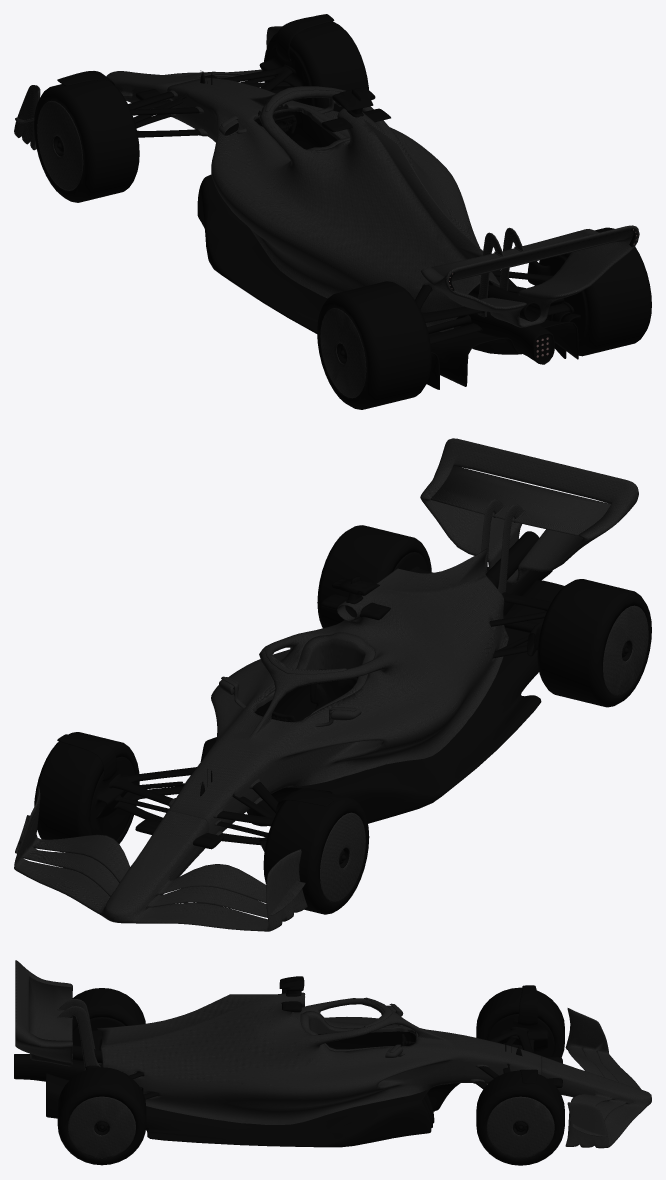
The model's file is mercedes_w13_mobile.glb.
3 views of the same model, one above another, from view 1: azimuth 30°, elevation 25°; view 2: azimuth 150°, elevation 25°; view 3: azimuth 270°, elevation 25° (orthographic). The views are drawn at different scales.
Visible parts, largest first — view 1: WingMirrorHousing_low_Body_Main_0, FrontTyre_Tyre_0, FrontWheelHubInner_Carbon Fiber_0, FronyWheelHub_Body_Wings_0, FronyWheelHub_Titanium_0, T-Cam.004_Glass_0; view 2: WingMirrorHousing_low_Body_Main_0, FronyWheelHub_Body_Wings_0, FrontWheelHubInner_Carbon Fiber_0, FrontTyre_Tyre_0, FronyWheelHub_Titanium_0; view 3: WingMirrorHousing_low_Body_Main_0, FronyWheelHub_Body_Wings_0, FrontWheelHubInner_Carbon Fiber_0, FrontTyre_Tyre_0, FronyWheelHub_Titanium_0.
Boxes of the visible parts, box(x1,y1,x2,y2) form: WingMirrorHousing_low_Body_Main_0: box(166, 77, 499, 331); FrontTyre_Tyre_0: box(34, 21, 651, 409); FrontWheelHubInner_Carbon Fiber_0: box(57, 14, 635, 389); FronyWheelHub_Body_Wings_0: box(14, 26, 639, 398); FronyWheelHub_Titanium_0: box(53, 70, 546, 363); T-Cam.004_Glass_0: box(258, 96, 637, 362); WingMirrorHousing_low_Body_Main_0: box(168, 548, 508, 834); FronyWheelHub_Body_Wings_0: box(14, 438, 648, 931); FrontWheelHubInner_Carbon Fiber_0: box(57, 552, 564, 851); FrontTyre_Tyre_0: box(34, 525, 651, 914); FronyWheelHub_Titanium_0: box(184, 531, 632, 868); WingMirrorHousing_low_Body_Main_0: box(97, 992, 541, 1124); FronyWheelHub_Body_Wings_0: box(15, 960, 651, 1158); FrontWheelHubInner_Carbon Fiber_0: box(14, 976, 562, 1147); FrontTyre_Tyre_0: box(57, 987, 564, 1165); FronyWheelHub_Titanium_0: box(72, 1038, 528, 1135).
Bounding box in the file's own units: 2.01 × 1.24 × 5.18.
10 materials, 2 textured.
